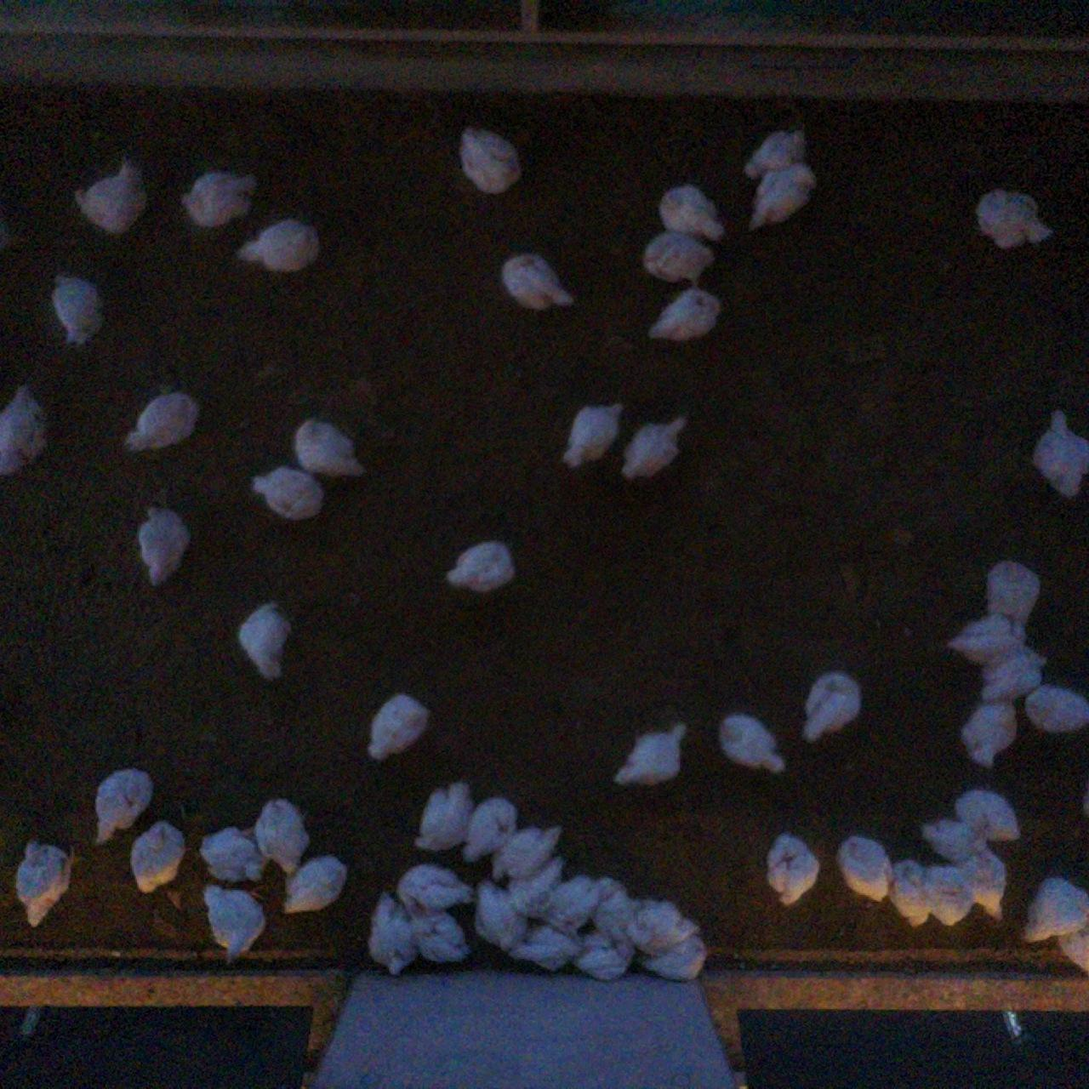chicken: (11, 834, 78, 931), (68, 157, 149, 236), (196, 879, 267, 960), (234, 599, 300, 684), (641, 281, 725, 347), (1029, 407, 1089, 499), (611, 720, 689, 789), (976, 184, 1055, 252), (618, 410, 690, 483), (1018, 871, 1089, 945), (364, 892, 425, 977), (400, 899, 473, 970), (125, 384, 201, 452), (741, 163, 819, 229), (92, 766, 156, 846), (455, 122, 524, 196), (46, 268, 105, 352), (182, 165, 259, 229), (714, 709, 786, 777), (634, 228, 718, 286), (135, 497, 191, 584), (558, 399, 627, 468), (658, 181, 728, 249), (240, 217, 322, 275), (983, 555, 1043, 632), (127, 822, 187, 898), (492, 822, 564, 885), (367, 690, 432, 759), (251, 463, 327, 522), (763, 831, 822, 907), (416, 780, 474, 857), (961, 696, 1021, 770), (623, 895, 697, 955), (0, 379, 43, 481), (199, 822, 267, 886), (280, 853, 349, 916), (254, 797, 309, 876), (290, 415, 360, 477), (836, 832, 897, 903), (801, 670, 862, 739), (502, 253, 574, 311), (401, 861, 478, 915), (959, 847, 1012, 925), (885, 857, 940, 932), (943, 617, 1025, 667), (445, 538, 515, 596), (497, 856, 560, 918), (955, 786, 1023, 843), (922, 858, 976, 929), (470, 877, 523, 949), (637, 933, 709, 985), (741, 125, 809, 180), (462, 793, 517, 860), (972, 653, 1041, 704), (543, 873, 599, 935), (1022, 686, 1089, 735), (587, 874, 635, 942), (506, 925, 575, 972), (568, 932, 633, 979), (924, 820, 984, 864), (1052, 914, 1089, 975)
